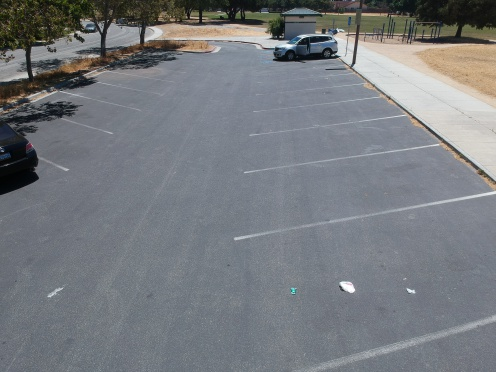plastic bag: (331, 275, 362, 297)
